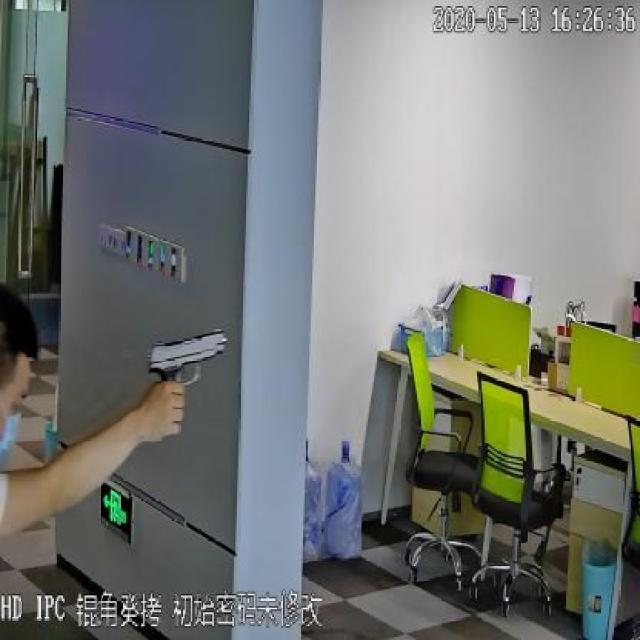gun: (126, 318, 242, 424)
